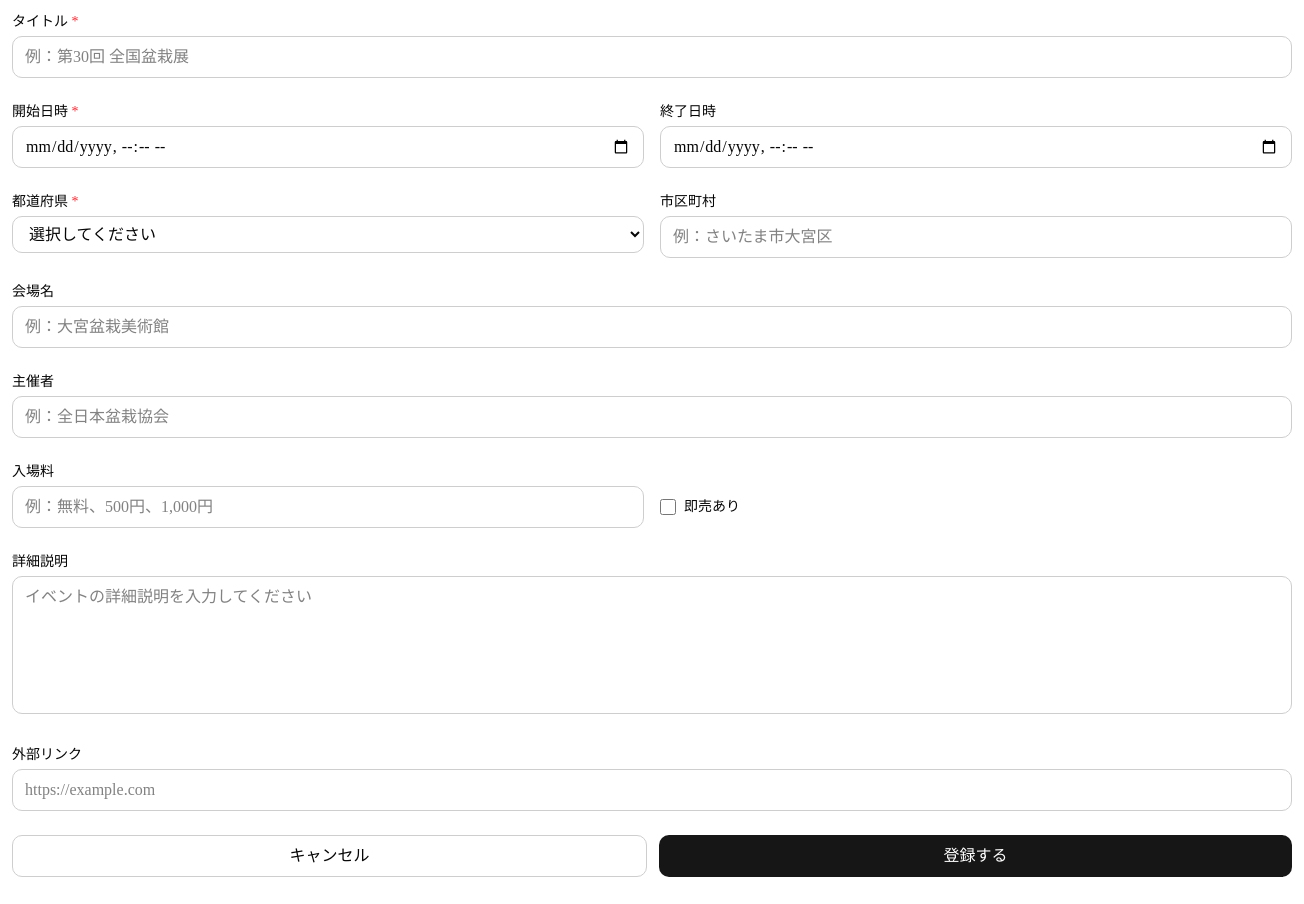
EventForm › shows error from server action
In the field labelled "タイトル *": (652, 57) [12,36,1292,78], type "Test"
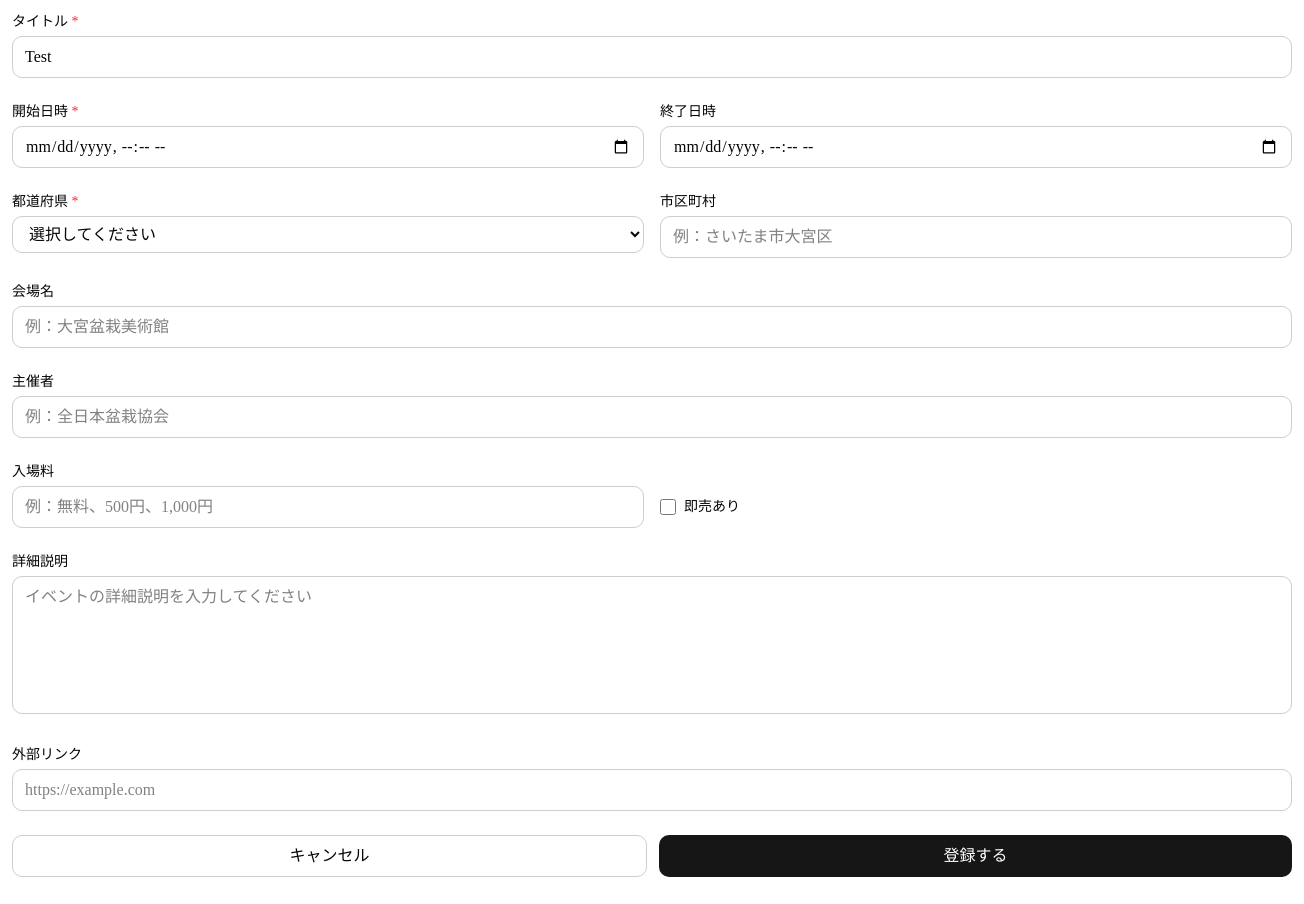
In the field labelled "開始日時 *": (328, 147) [12,126,644,168], type "2025-12-01T10:00"
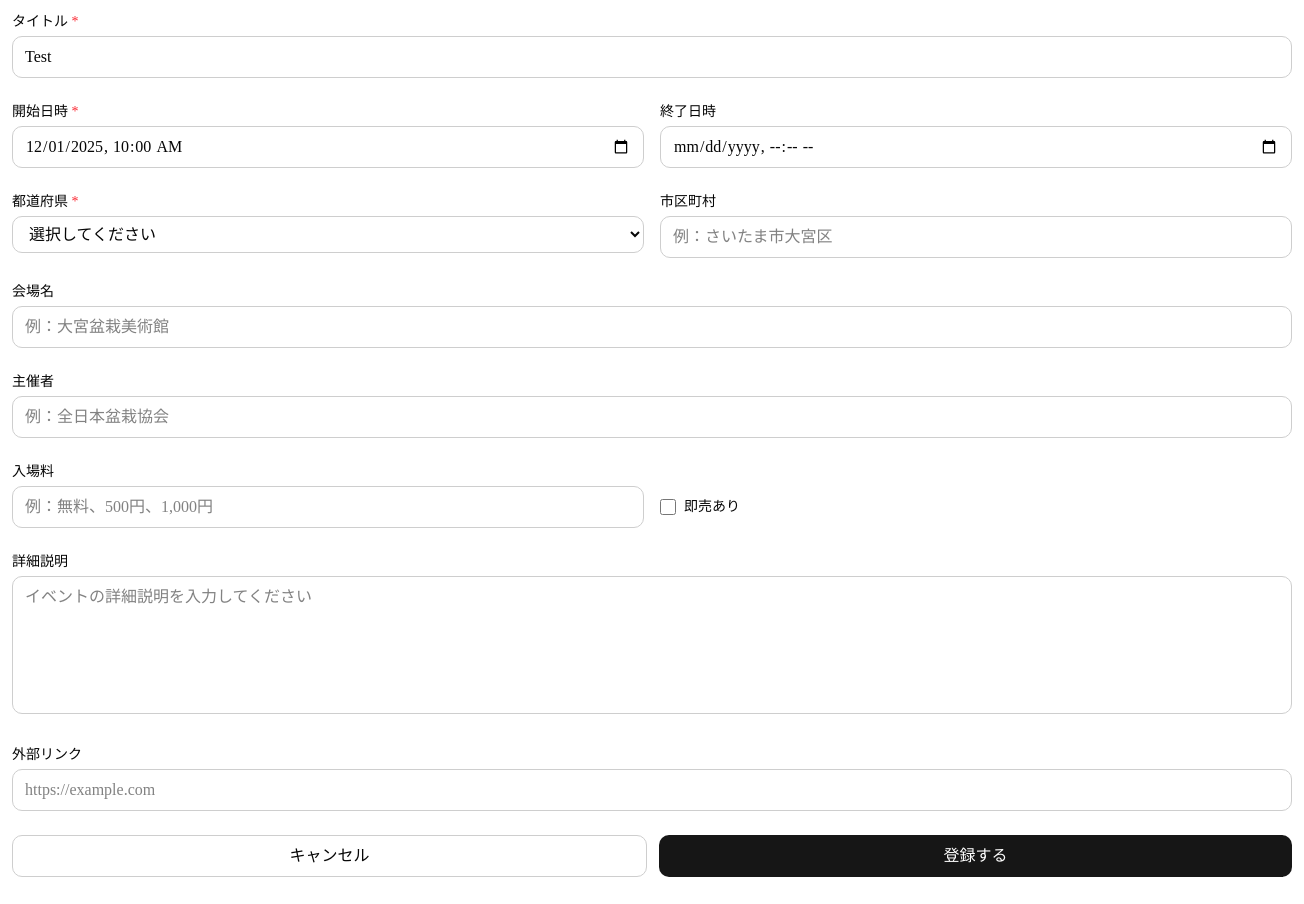
Submit the form
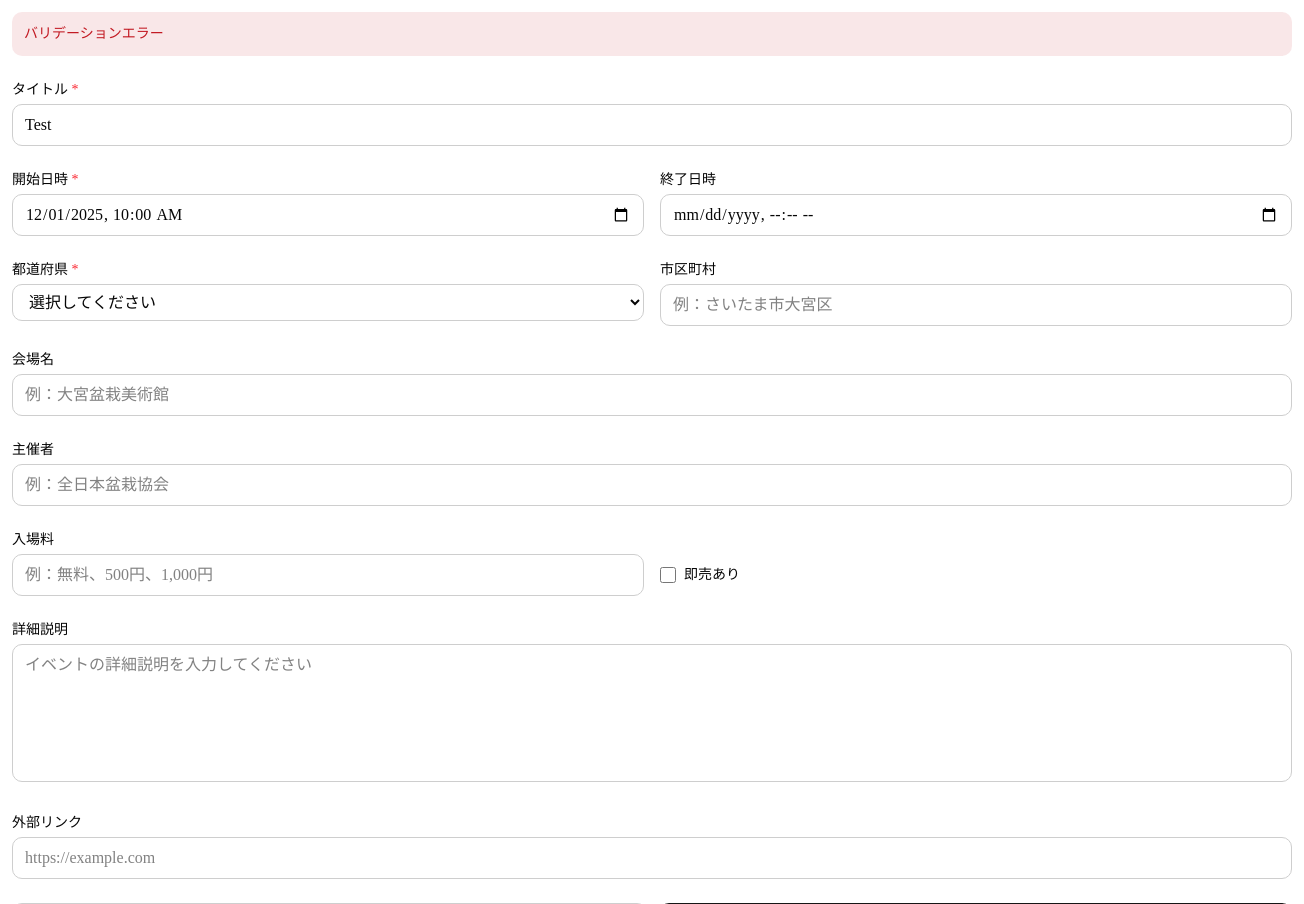
Check: the text "バリデーションエラー" is shown, box [12,12,1292,56]
